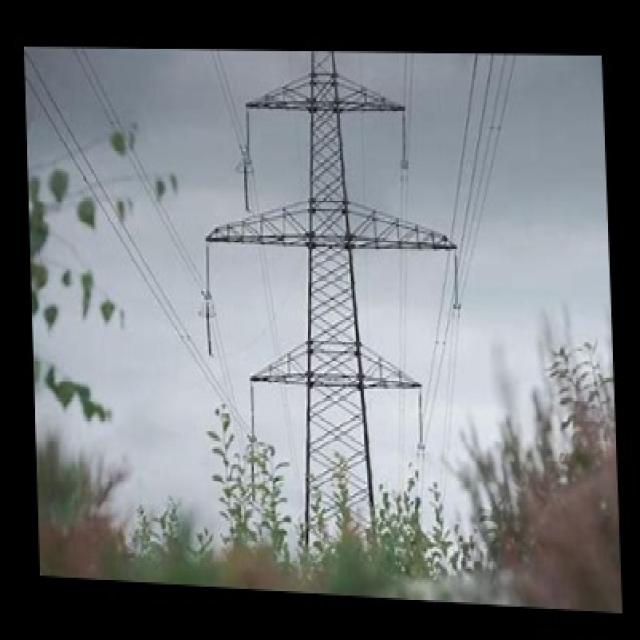utility poles: (216, 337, 490, 577)
